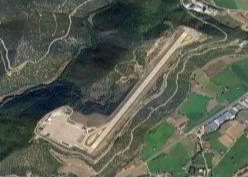airport: (34, 26, 199, 154)
